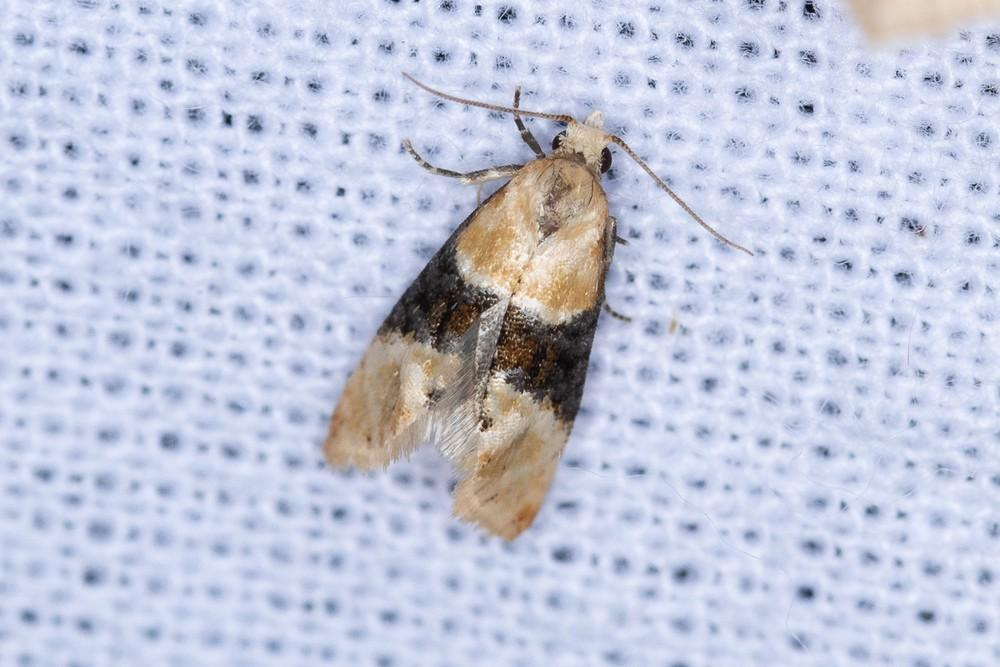Eupoecilia Ambiguella: (319, 69, 755, 544)
